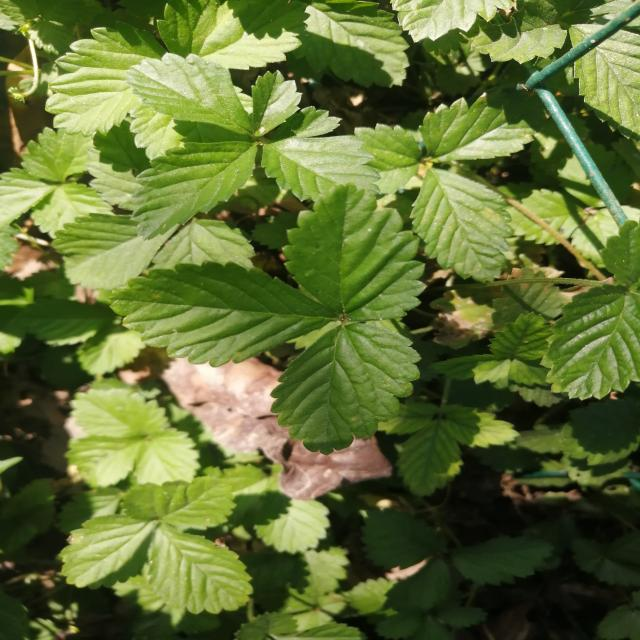Mock_strawberry: (121, 181, 471, 431), (126, 62, 414, 224)
